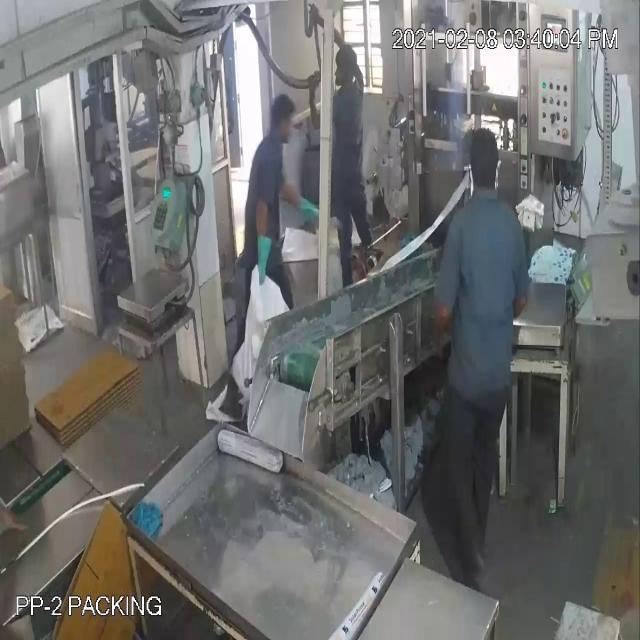Gloves: (26, 52, 441, 321)
